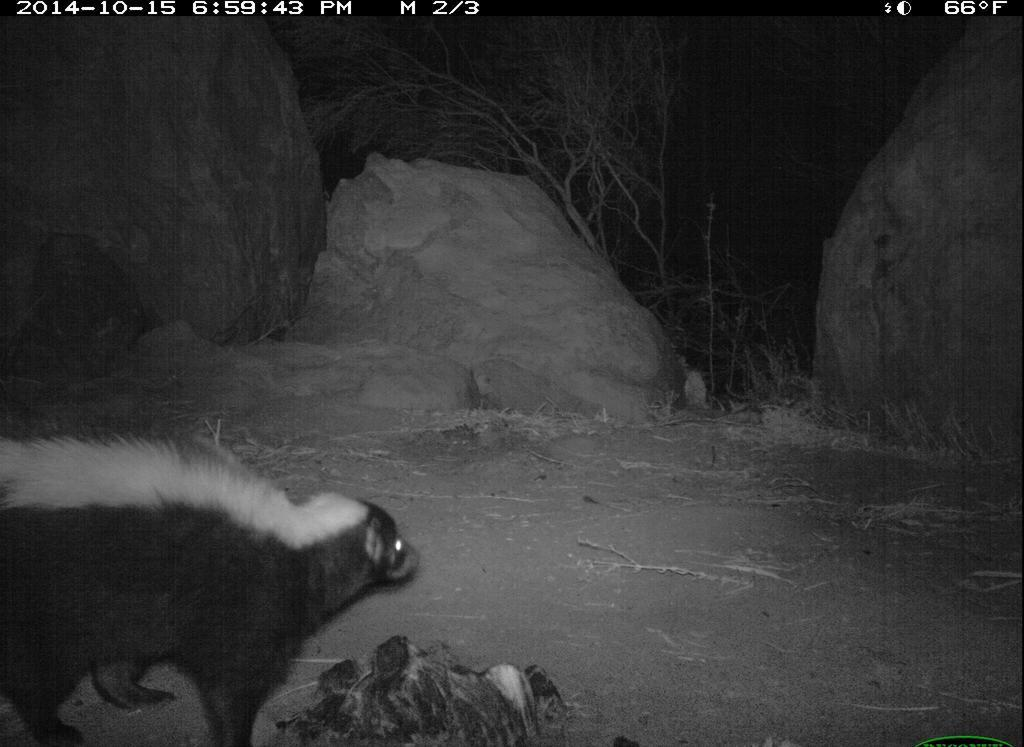skunk: (4, 413, 425, 747)
